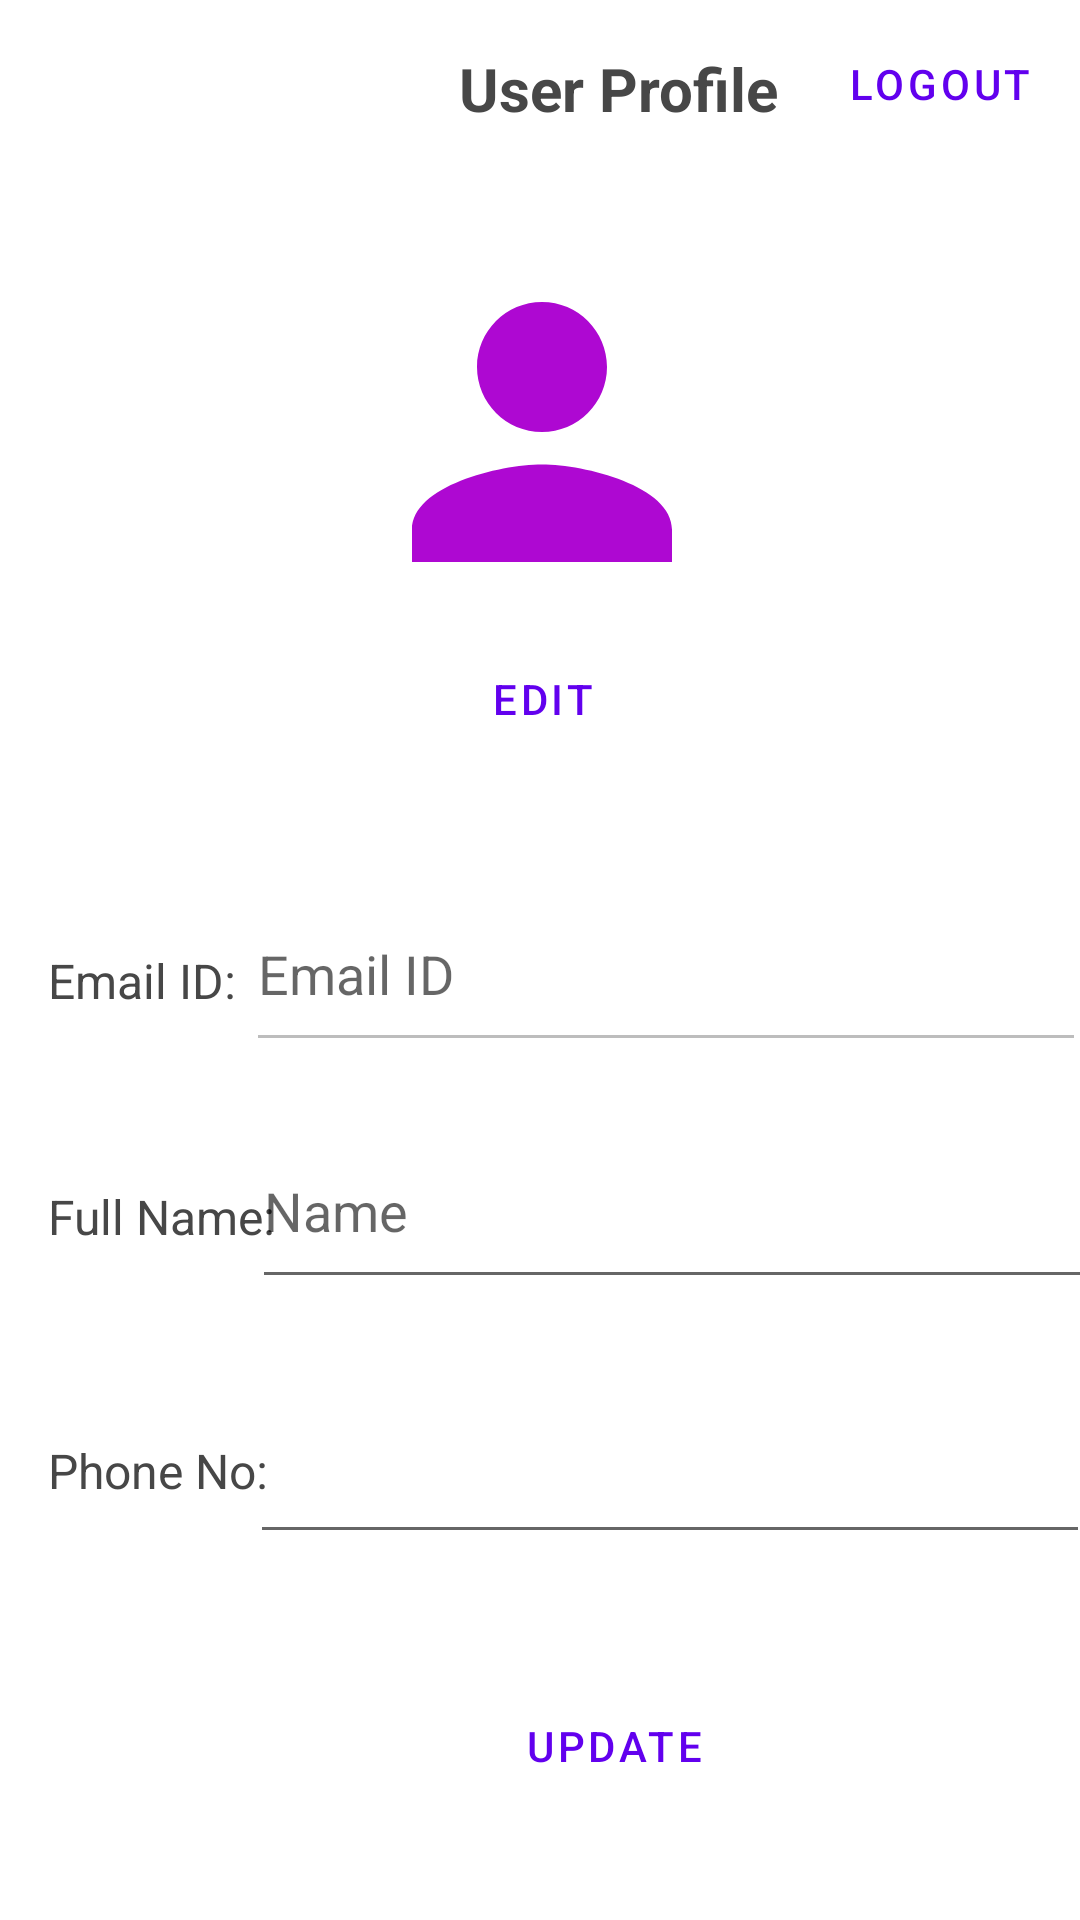

Icon bounding boxes for this 1080x1920 phone screenshot, format (x1, y1, x2, y2):
person: (412, 302, 672, 562)
